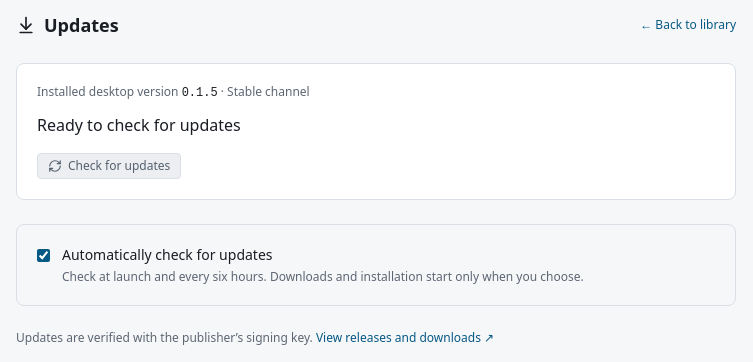
Scenario: desktop updates › checks manually and displays a busy state
The width and height of the screenshot is (753, 362).
Click the button "Check for updates": {"x": 109, "y": 166} x1=37 y1=153 x2=181 y2=179
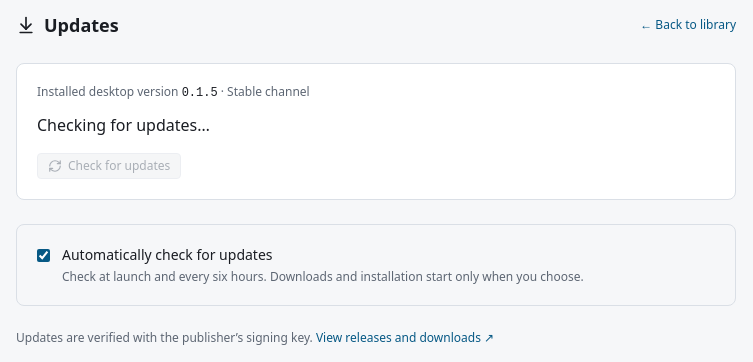
Now the text "Checking for updates…" is shown, box x1=37 y1=114 x2=210 y2=136
Now the button "Check for updates" is disabled, box x1=37 y1=153 x2=181 y2=179
